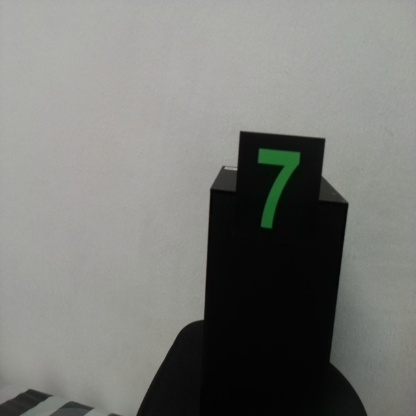id_7: (239, 133, 321, 286)
